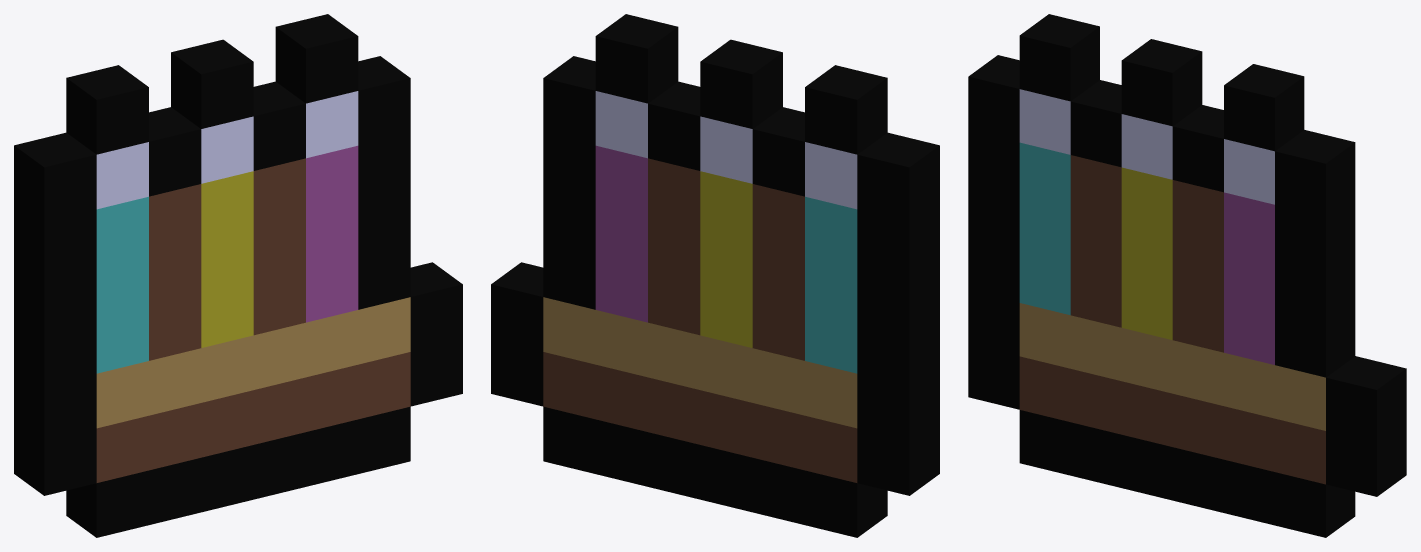
Rendered from Alchemy Table.glb.
3 views of the same model, side by side, from view 1: azimuth 30°, elevation 25°; view 2: azimuth 150°, elevation 25°; view 3: azimuth 330°, elevation 25° (orthographic). The views are drawn at different scales.
Visible parts, largest first — view 1: generated(Clone); view 2: generated(Clone); view 3: generated(Clone).
Part boxes in pixels (x1,y1,x2,y2): generated(Clone): (14, 14, 462, 537); generated(Clone): (491, 14, 939, 537); generated(Clone): (968, 14, 1406, 537).
Size of the model in its own units: 8 by 8 by 1.
Materials: 1 (1 with a texture image).
